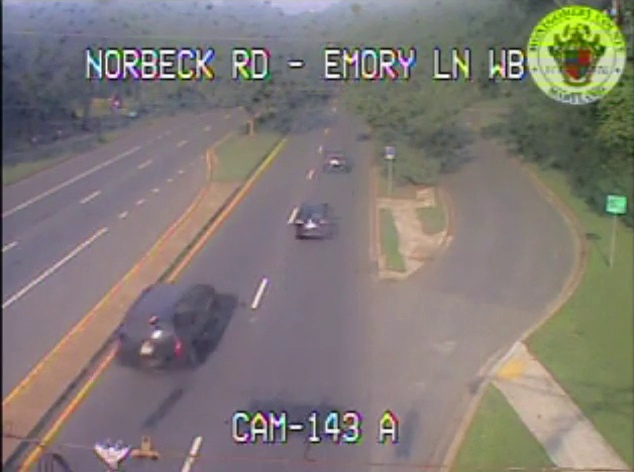car: (119, 282, 217, 365), (295, 203, 332, 239), (322, 152, 346, 172)
